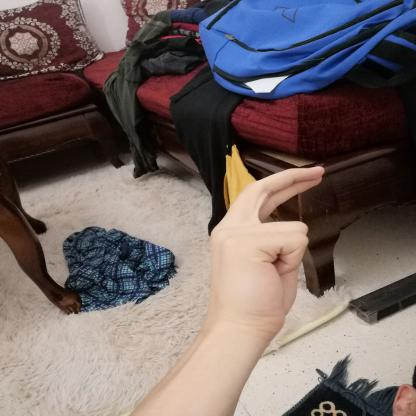ZAY: (198, 157, 338, 341)
